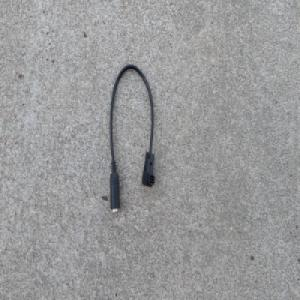Wire: (107, 62, 156, 214)
